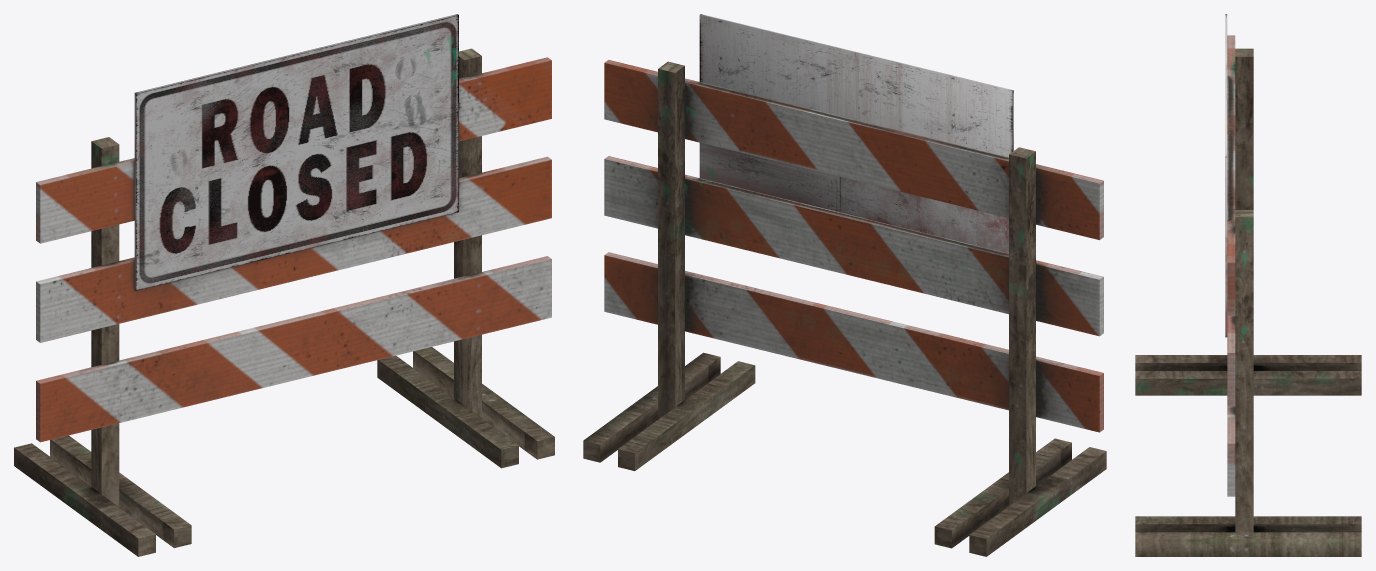
File: RoadClosed.fbx
3 renders of one model, left to right at view 1: azimuth 30°, elevation 25°; view 2: azimuth 150°, elevation 25°; view 3: azimuth 270°, elevation 25°, orthographic. The views are drawn at different scales.
Visible parts, largest first — view 1: noroad_low; view 2: noroad_low; view 3: noroad_low.
Part boxes in pixels (box(x1,y1,x2,y2)): noroad_low: box(14, 14, 554, 556); noroad_low: box(583, 14, 1106, 556); noroad_low: box(1135, 14, 1361, 556).
Size of the model in its own units: 233 by 181 by 98.06.
